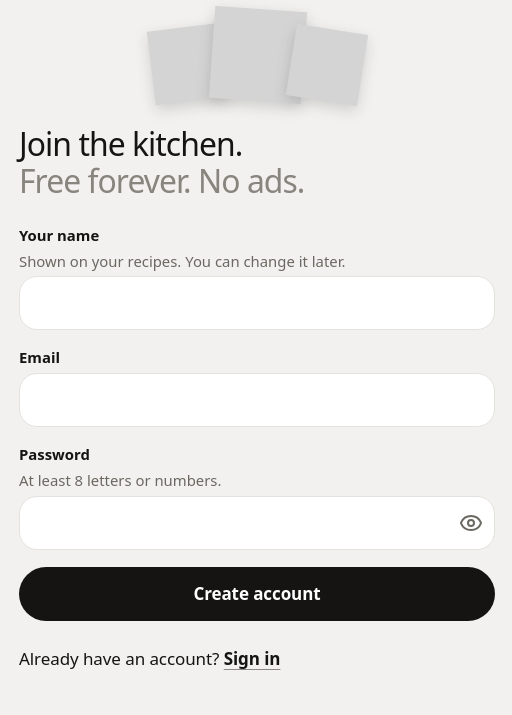
Test case: SignUpPage › explains every problem in plain language and does not submit
This screenshot has width=512, height=715.
Step 1. Click the button "Create account" → (257, 594), box left=19, top=567, right=495, bottom=621
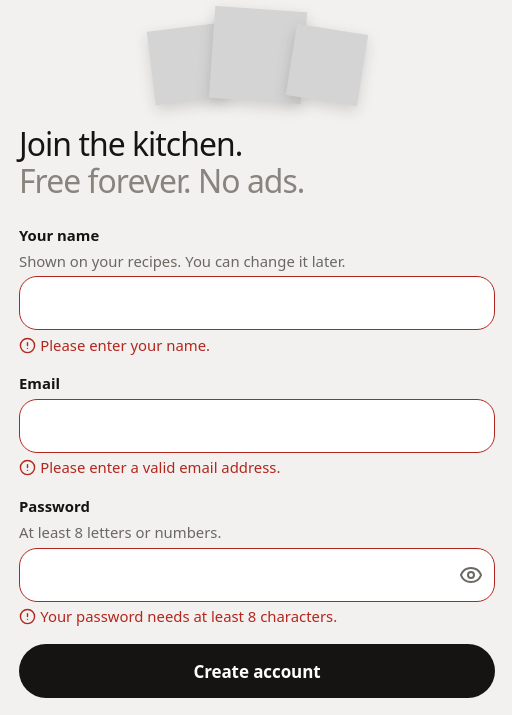
Now the text "Please enter your name." is shown, box left=40, top=335, right=210, bottom=356
Now the text "Please enter a valid email address." is shown, box left=40, top=457, right=280, bottom=479
Now the text "Your password needs at least 8 characters." is shown, box left=40, top=606, right=337, bottom=627
